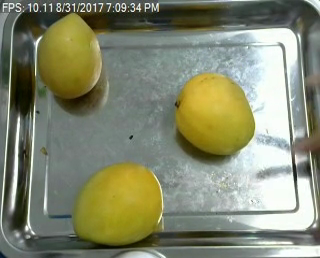Mango: (71, 162, 167, 247), (170, 71, 254, 157), (35, 9, 100, 103)
